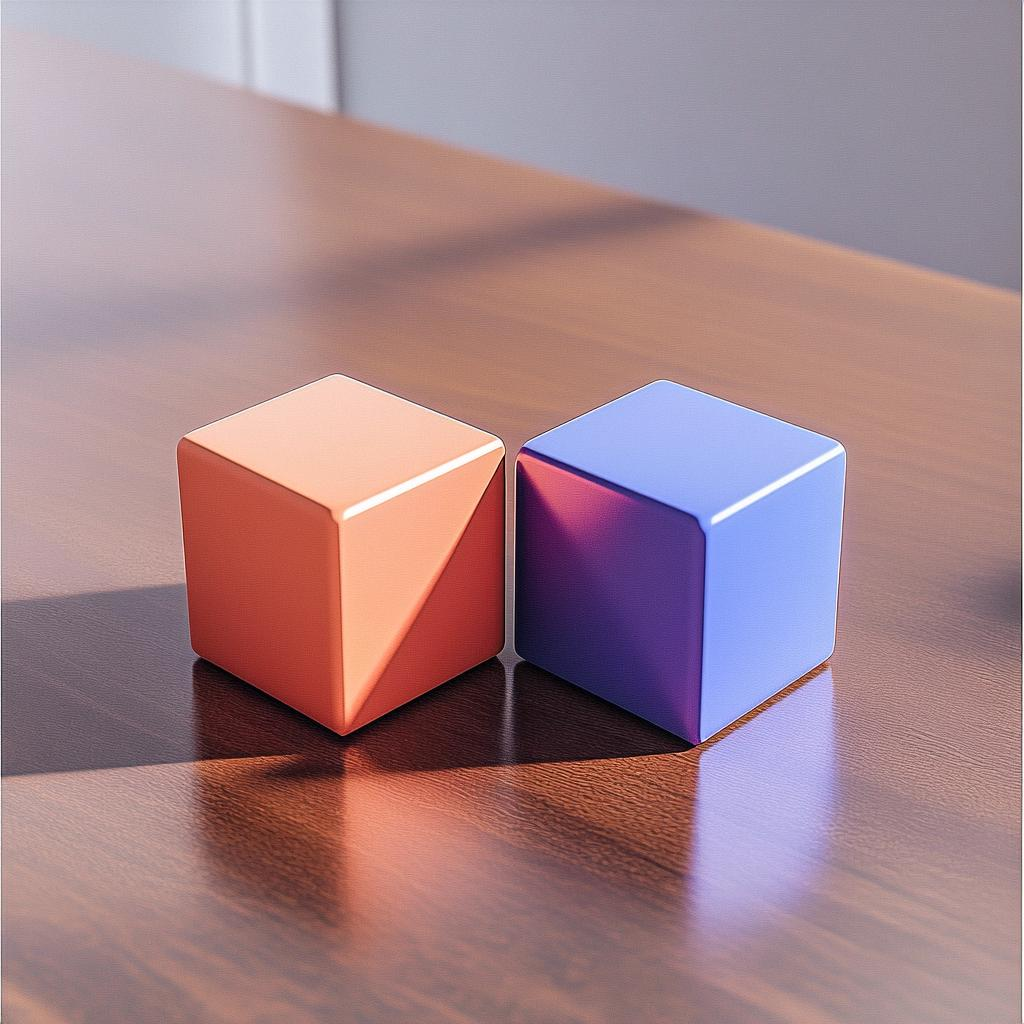cube: (513, 377, 846, 746), (175, 371, 506, 737)
